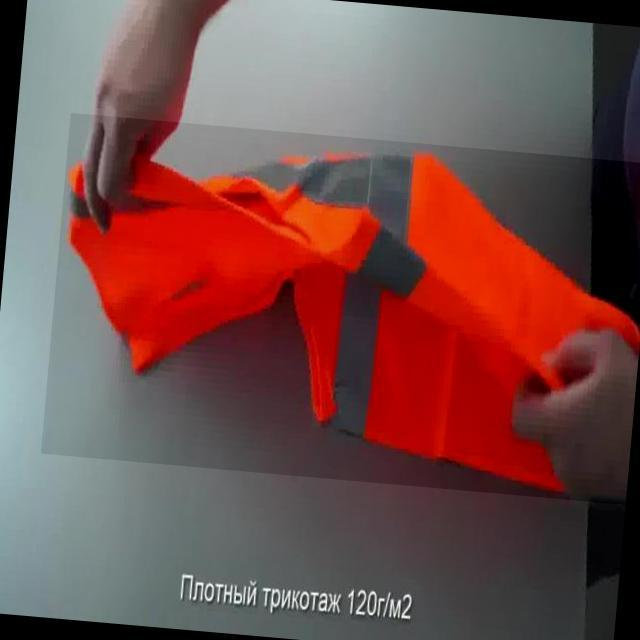Safety Vest: (40, 112, 640, 504)
bare-arms: (75, 24, 196, 244), (502, 318, 640, 503)
